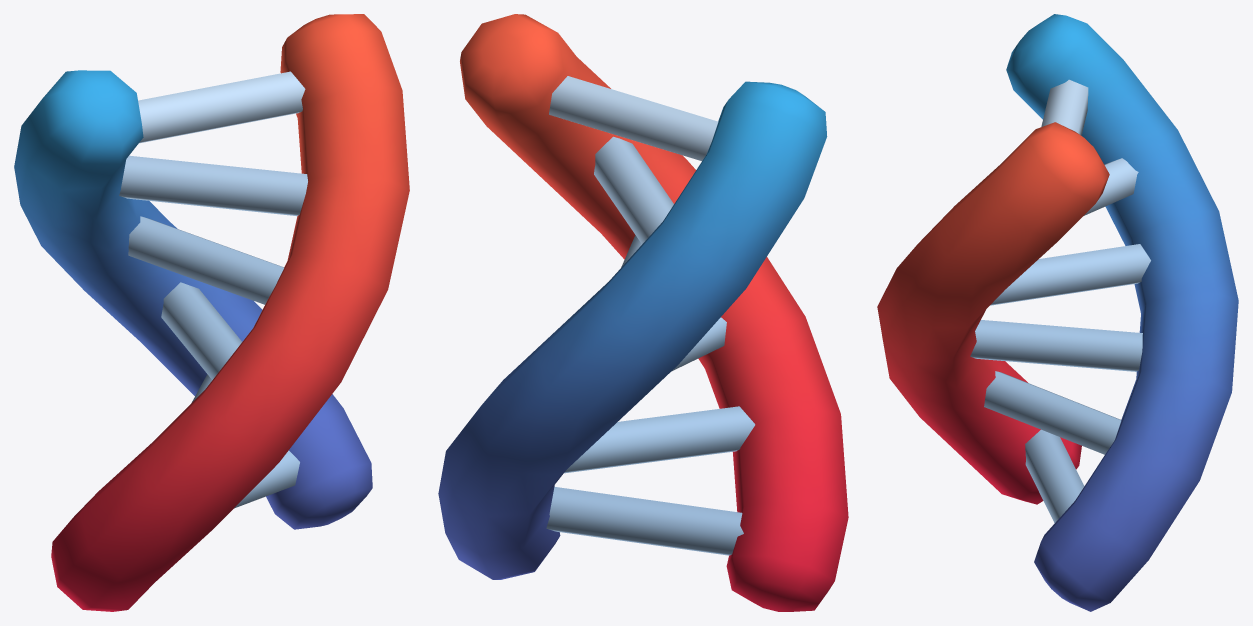
Rendered from Dna.fbx.
The picture shows the model from 3 angles, left to right: view 1: azimuth 30°, elevation 25°; view 2: azimuth 150°, elevation 25°; view 3: azimuth 270°, elevation 25°; orthographic projection. The views are drawn at different scales.
Visible parts, largest first — view 1: Dna; view 2: Dna; view 3: Dna.
Boxes of the visible parts, x1,y1,x2,y2 form: Dna: (14, 14, 409, 611); Dna: (438, 14, 848, 611); Dna: (877, 14, 1238, 611).
Bounding box in the file's own units: 44.57 × 65.88 × 44.89.
